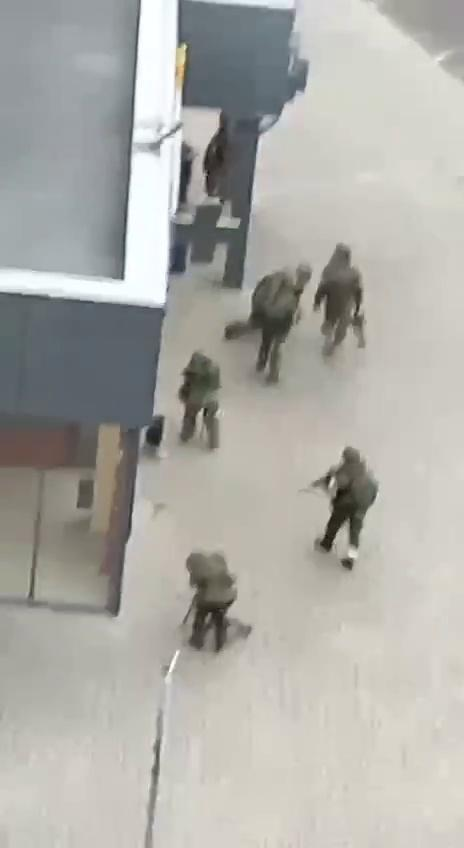person: (300, 446, 382, 571), (311, 242, 367, 358), (178, 548, 238, 651), (248, 267, 299, 384), (176, 349, 223, 453)
